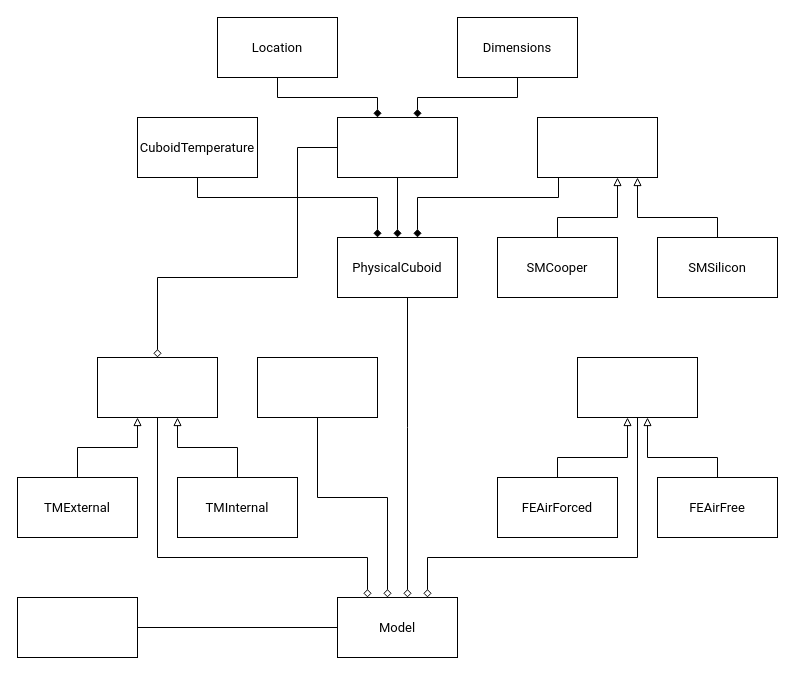
Image size: 795x675. Some labels were removed from this diagram. The box of each missing label's shape, as (x1, y1, x2, y2) in pixels:
Cuboid: (336, 116, 458, 178)
FluidEnvironment: (576, 356, 698, 418)
SimulationState: (16, 596, 138, 658)
SolidMaterial: (536, 116, 658, 178)
Temperature Modifier: (96, 356, 218, 418)
ThermalUnits: (256, 356, 378, 418)
